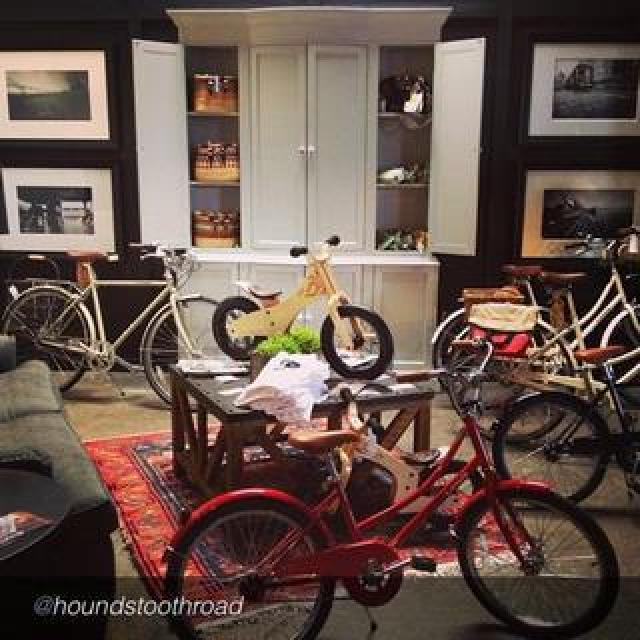Person: (178, 348, 622, 638), (2, 244, 228, 404), (208, 234, 398, 378)
